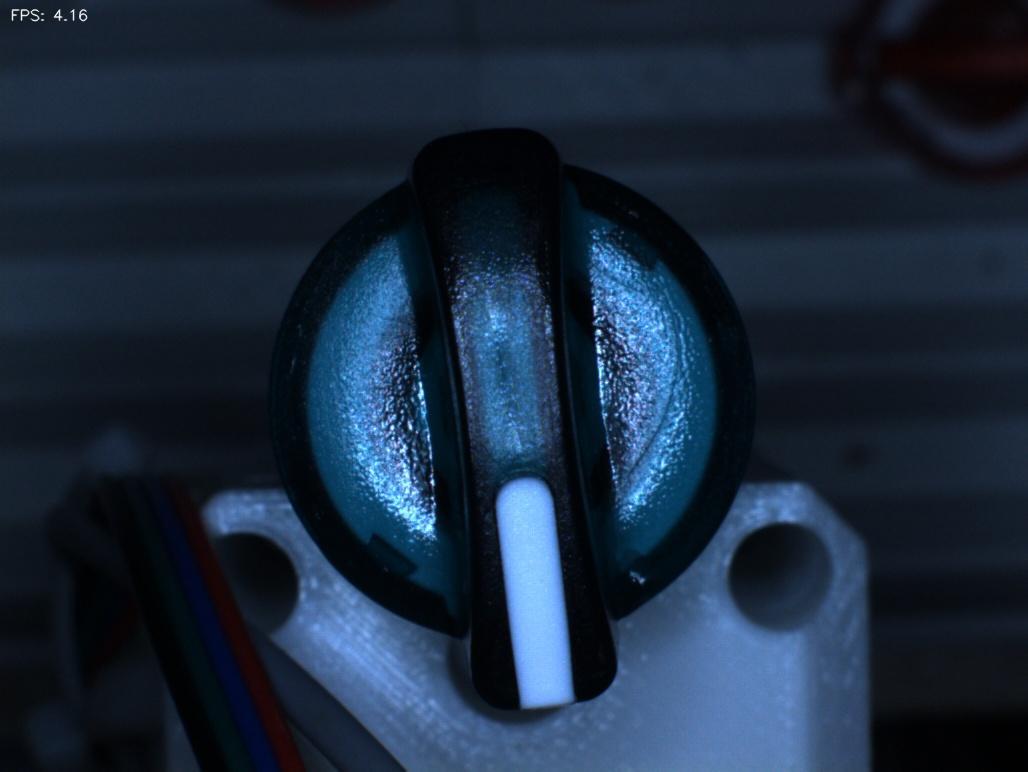Choc: (599, 520, 683, 616)
